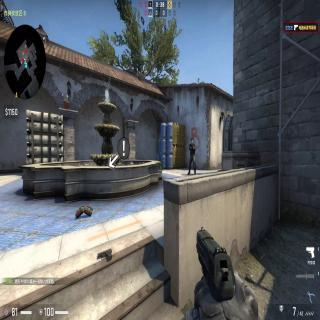T-Body: (188, 136, 196, 174)
T-Head: (190, 137, 194, 145)
